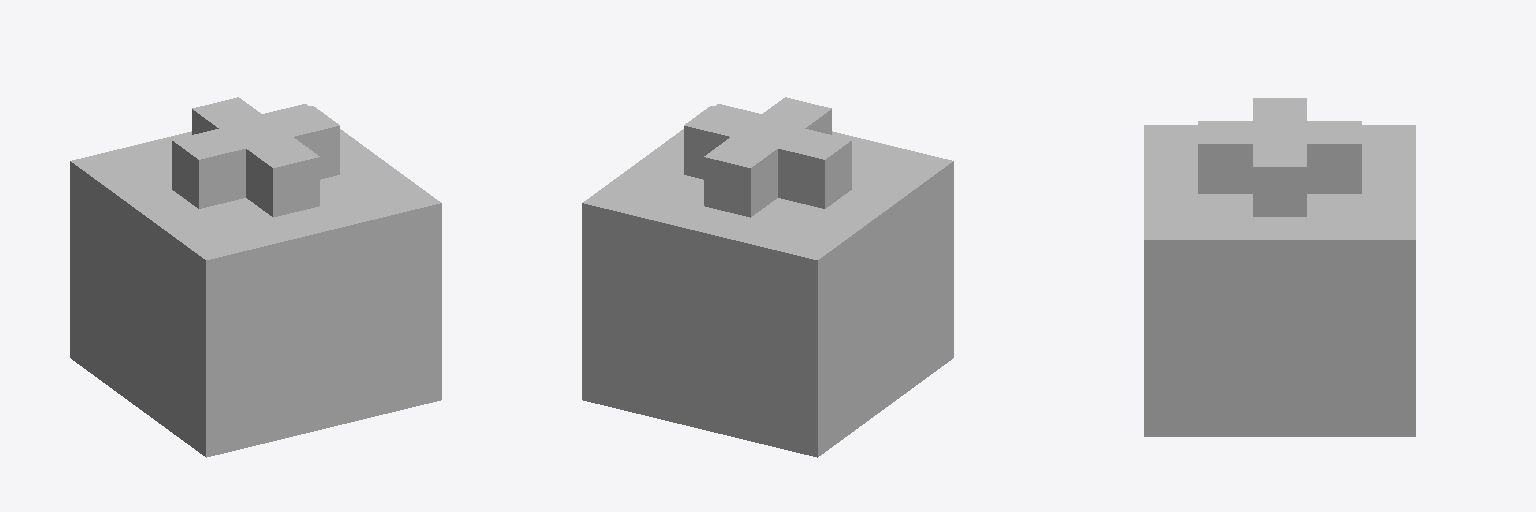
Rendered from Small_Gift_2.obj.
The picture shows the model from 3 angles: view 1: azimuth 30°, elevation 25°; view 2: azimuth 150°, elevation 25°; view 3: azimuth 270°, elevation 25°; orthographic projection.
Parts seen in each view (by area): view 1: object 1; view 2: object 1; view 3: object 1.
Boxes of the visible parts, x1,y1,x2,y2 form: object 1: [70, 97, 441, 457]; object 1: [582, 97, 953, 457]; object 1: [1144, 98, 1415, 436].
Size of the model in its own units: 0.5 by 0.5 by 0.5.